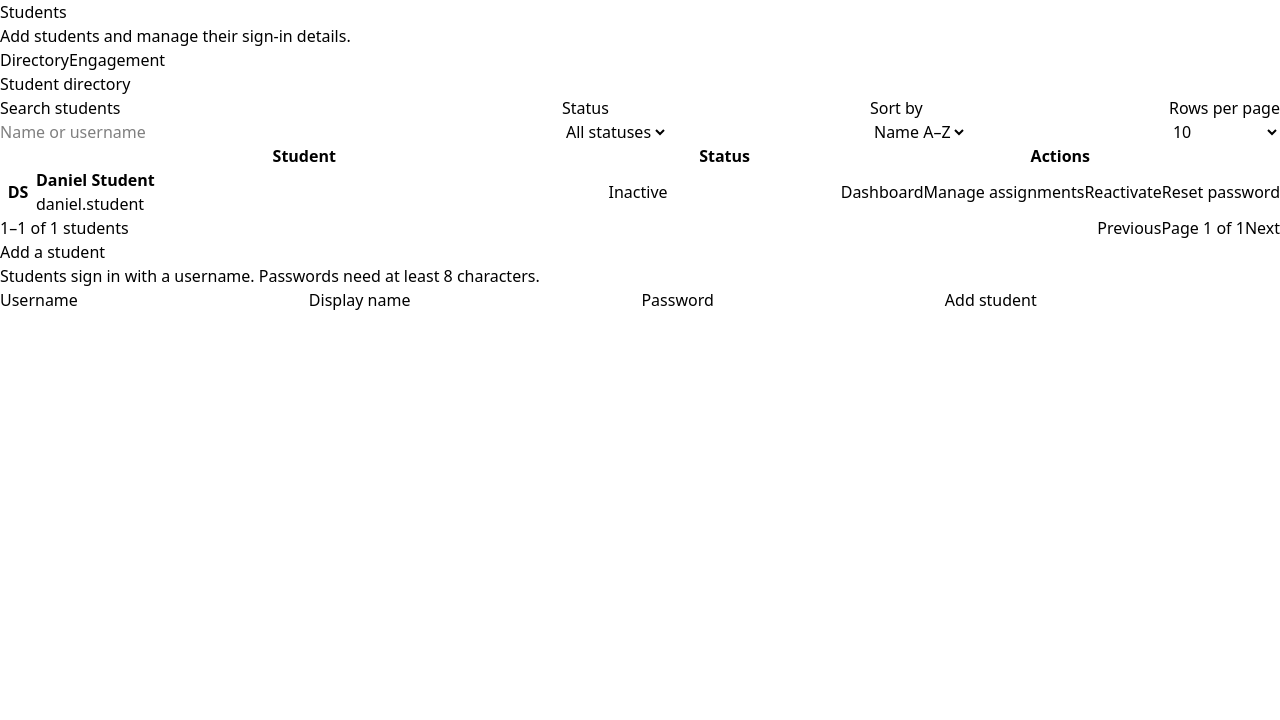
Scenario: Coach directory pages › confirms student account state change from active=false
Click the button "Reactivate".
click(1123, 192)  # box x1=1084 y1=180 x2=1162 y2=204
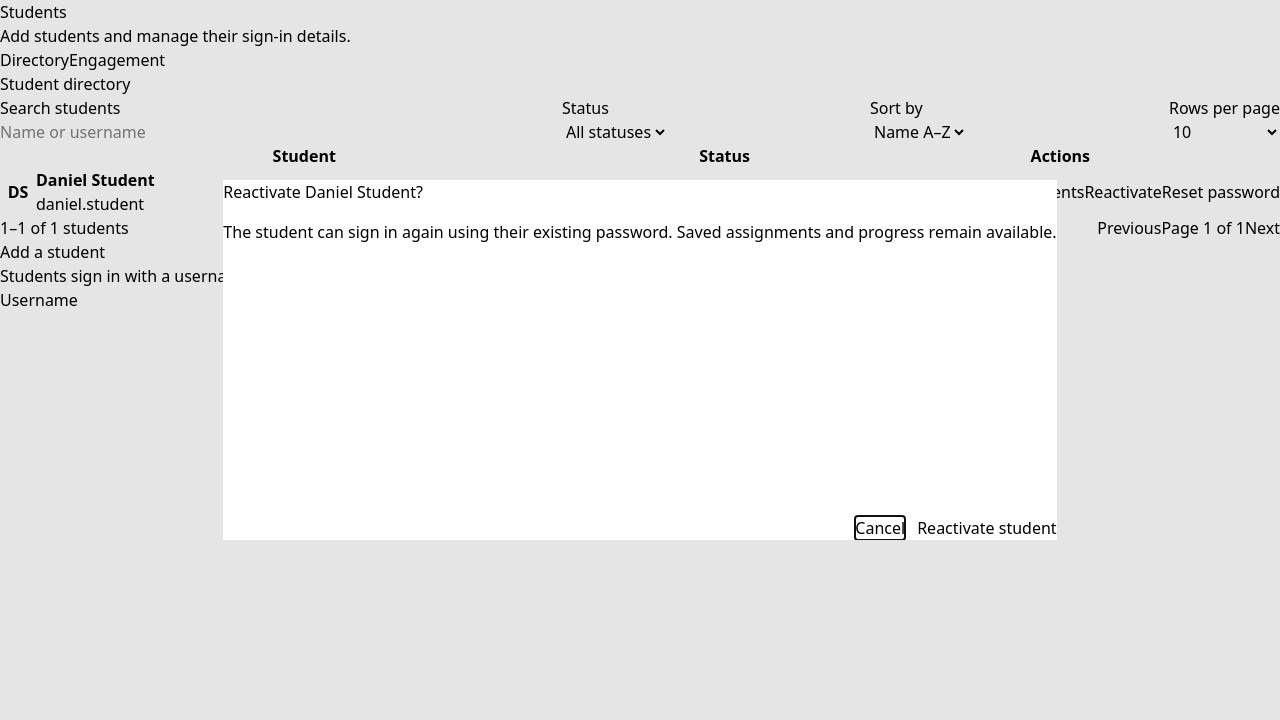
Click the button "Reactivate student".
click(987, 528)  # box x1=917 y1=516 x2=1057 y2=540
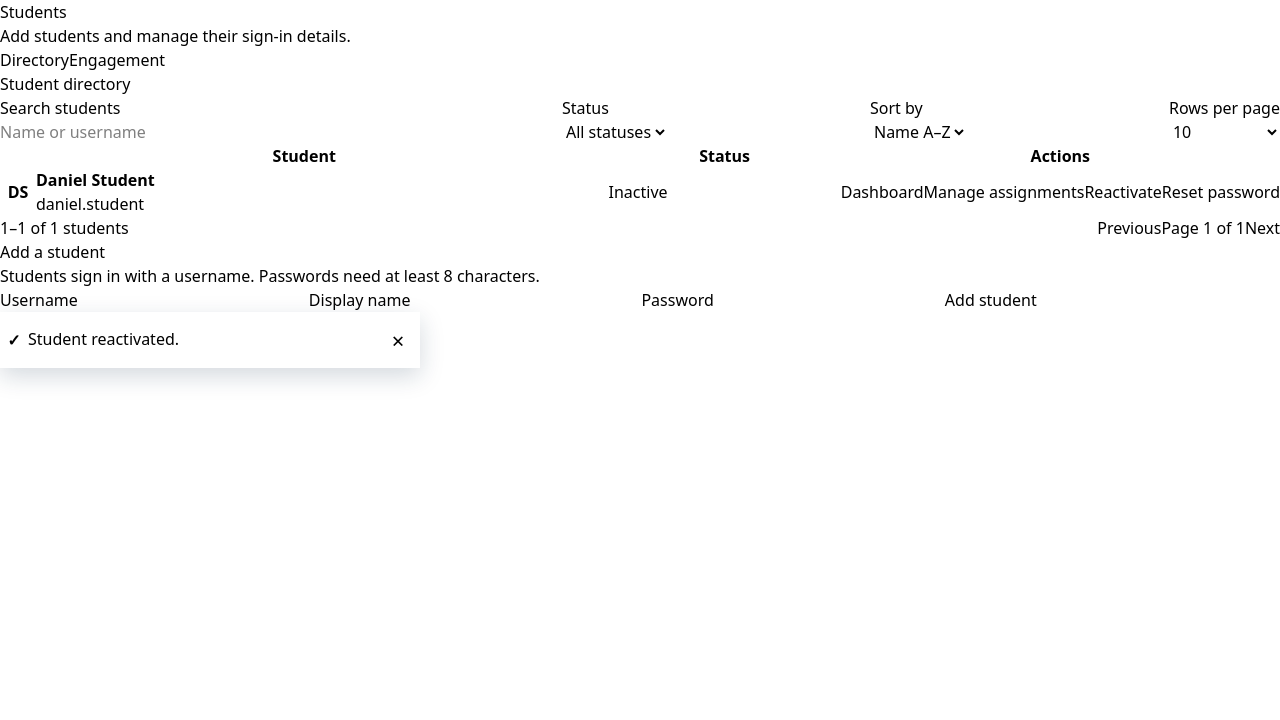
Now the dialog is gone
